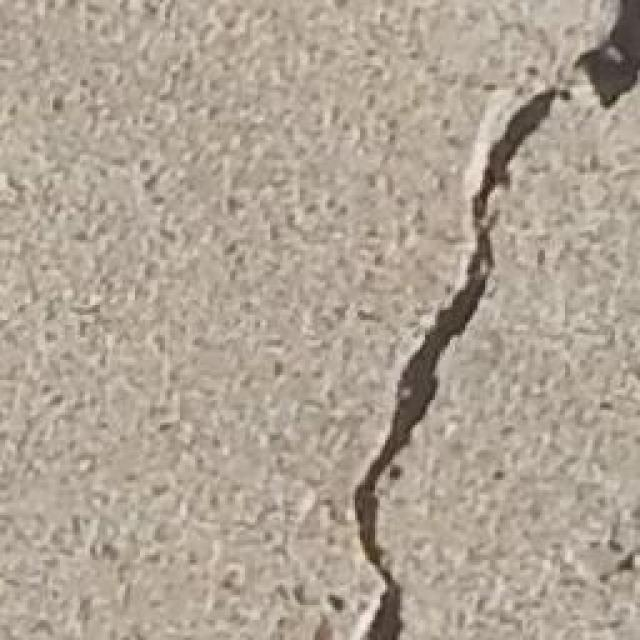concrete-crack: (348, 0, 640, 638)
